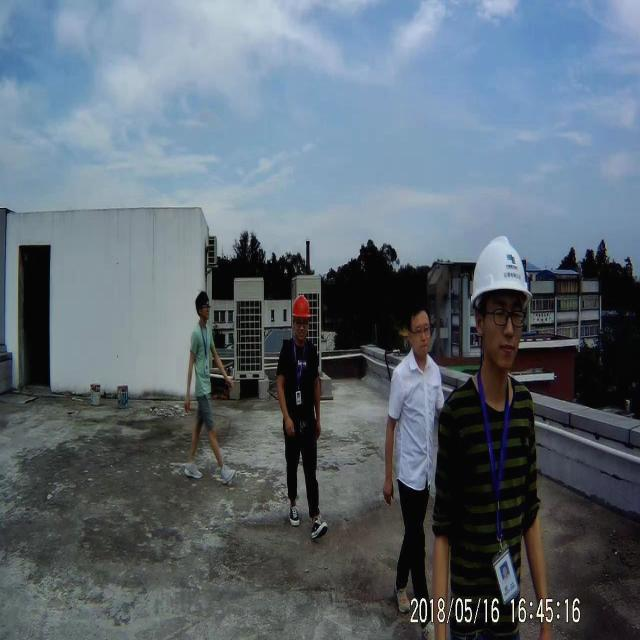face_nomask: (480, 297, 524, 373), (412, 320, 434, 358), (295, 318, 310, 343)
glasses: (489, 306, 526, 331), (411, 321, 431, 340), (294, 318, 310, 331)
hand_noglove: (382, 474, 396, 509), (284, 418, 298, 441), (225, 372, 237, 392), (316, 417, 323, 440), (184, 394, 192, 414)
head_helmet: (467, 226, 535, 324), (290, 294, 314, 322)
head_nohelmet: (407, 302, 431, 322), (195, 288, 212, 309)
person: (436, 218, 544, 628), (379, 309, 442, 606), (274, 290, 338, 546), (180, 290, 236, 480)
shoes: (391, 577, 414, 613), (308, 509, 327, 548), (216, 458, 236, 486), (286, 496, 302, 530), (183, 459, 205, 480)
